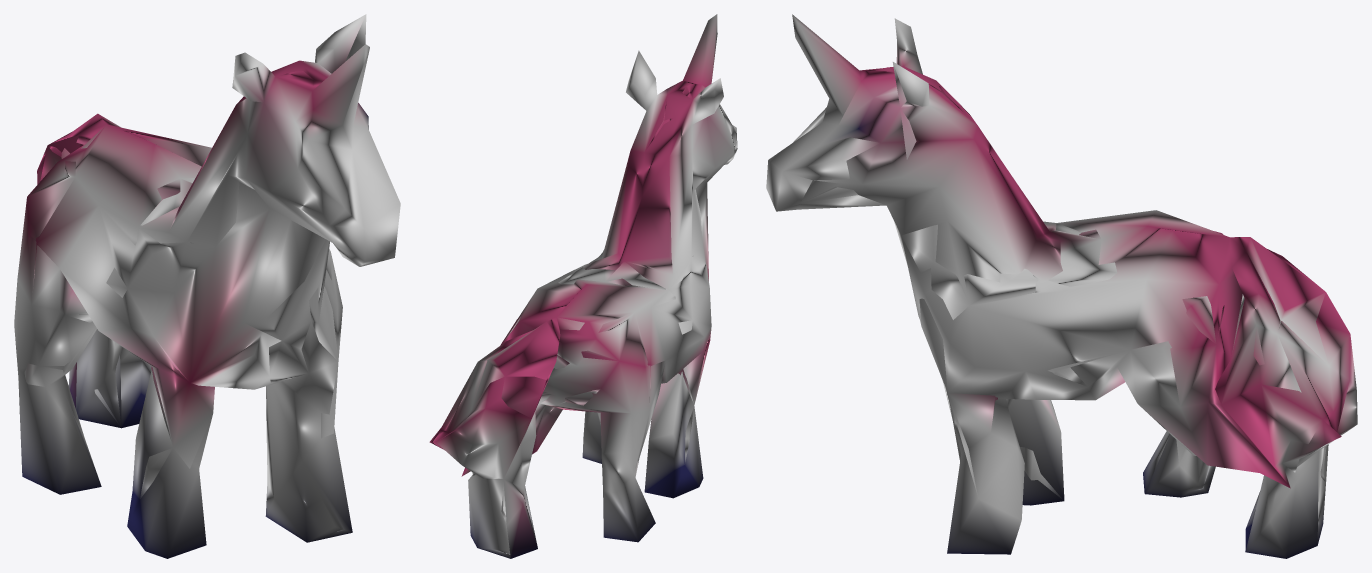
File: gen3d-unicorn-lod1.glb
The picture shows the model from 3 angles, left to right: view 1: azimuth 30°, elevation 25°; view 2: azimuth 150°, elevation 25°; view 3: azimuth 270°, elevation 25°; orthographic projection. The views are drawn at different scales.
Parts seen in each view (by area): view 1: part_0; view 2: part_0; view 3: part_0.
Part boxes in pixels (x1,y1,x2,y2): part_0: (14, 14, 400, 558); part_0: (429, 14, 737, 558); part_0: (766, 14, 1357, 558).
Bounding box in the file's own units: 0.4126 × 1 × 1.05.
